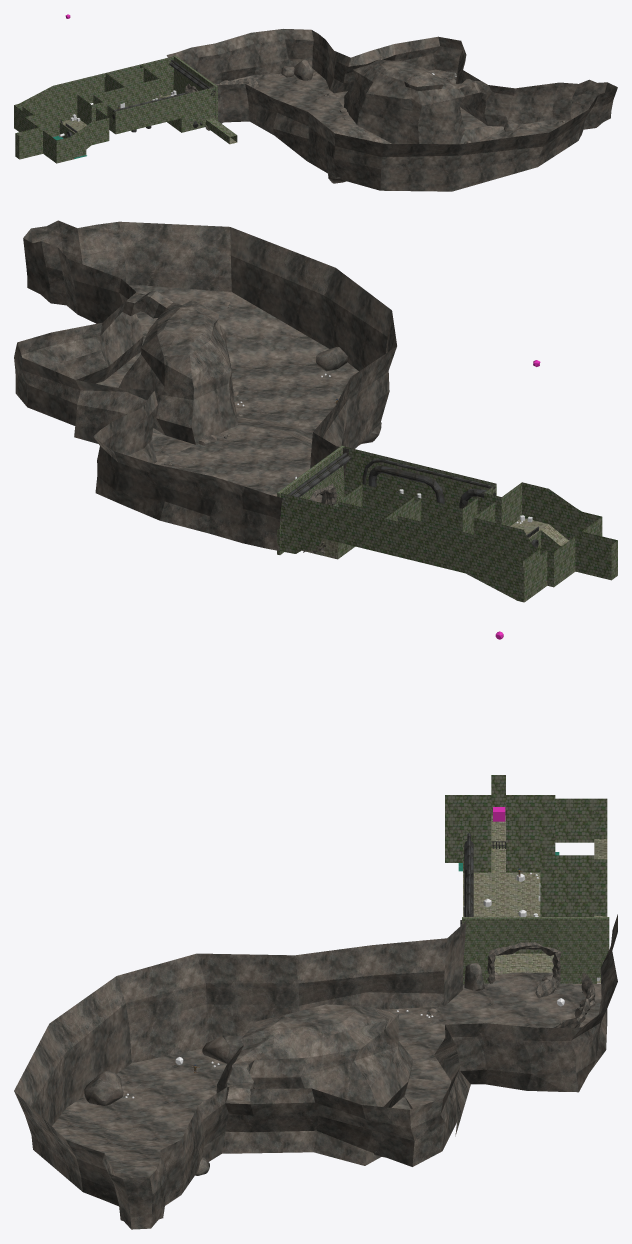
Rendered from Level_003.glb.
The picture shows the model from 3 angles, top to bottom: view 1: azimuth 30°, elevation 25°; view 2: azimuth 150°, elevation 25°; view 3: azimuth 270°, elevation 25°; orthographic projection. The views are drawn at different scales.
Parts seen in each view (by area): view 1: Plane.009, Plane.003, Cube.001, Plane.008, rock_1.002; view 2: Plane.009, Plane.003, Plane.008, Cube.001, rock_1.005; view 3: Plane.009, Plane.003, Cube.001, rock.003, rock_1.005, rock, Plane.008.
Boxes of the visible parts, x1,y1,x2,y2 form: Plane.009: (166, 29, 617, 191); Plane.003: (14, 56, 237, 163); Cube.001: (173, 55, 217, 120); Plane.008: (112, 59, 215, 132); rock_1.002: (294, 59, 313, 80); Plane.009: (14, 220, 396, 550); Plane.003: (279, 446, 617, 602); Plane.008: (282, 452, 495, 508); Cube.001: (277, 445, 344, 554); rock_1.005: (316, 347, 347, 371); Plane.009: (14, 914, 617, 1229); Plane.003: (445, 775, 607, 982); Cube.001: (462, 917, 609, 983); rock.003: (535, 973, 595, 1027); rock_1.005: (84, 1070, 123, 1105); rock: (487, 942, 562, 983); Plane.008: (460, 833, 473, 925).
Bounding box in the file's own units: 212 × 65.24 × 130.
7 materials, 6 textured.
